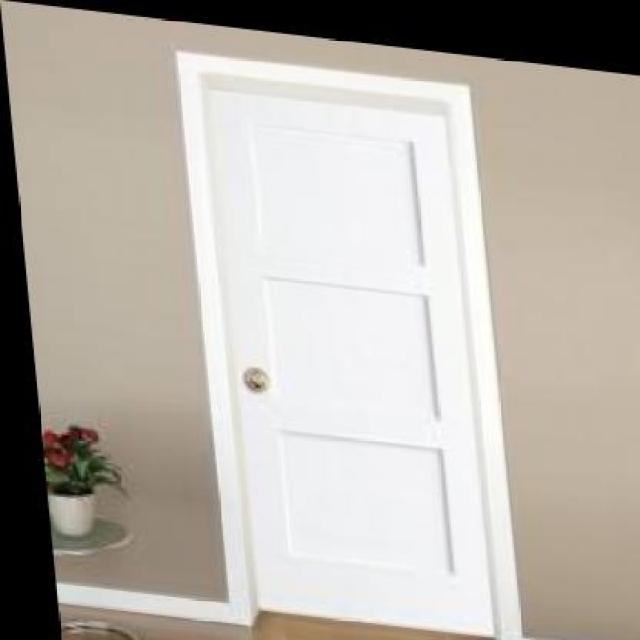door: (186, 35, 510, 640)
